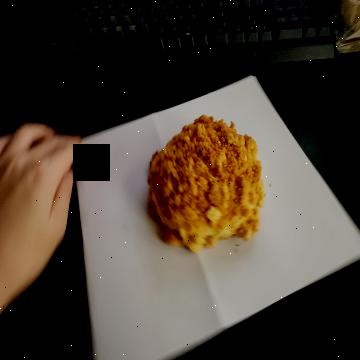soboru_bread: (145, 114, 264, 250)
